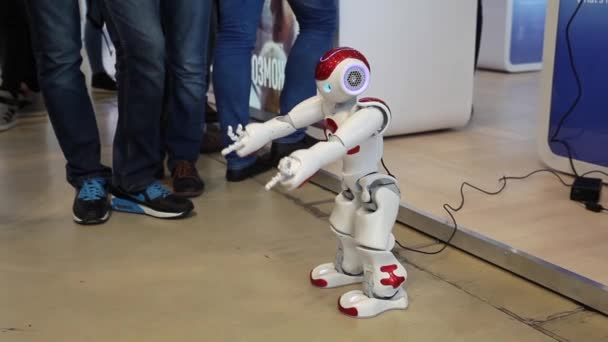nao: (202, 32, 444, 337)
